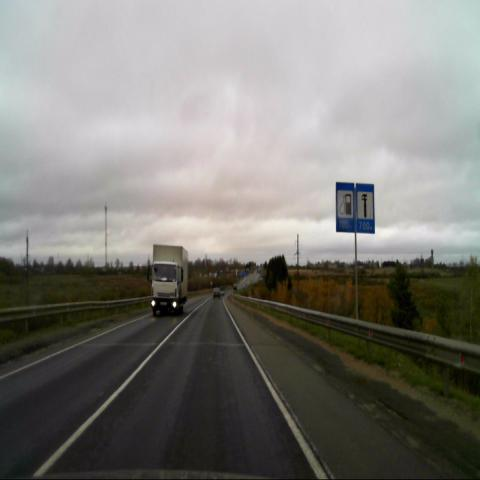7_3: (335, 181, 355, 233)
7_4: (355, 182, 376, 234)
